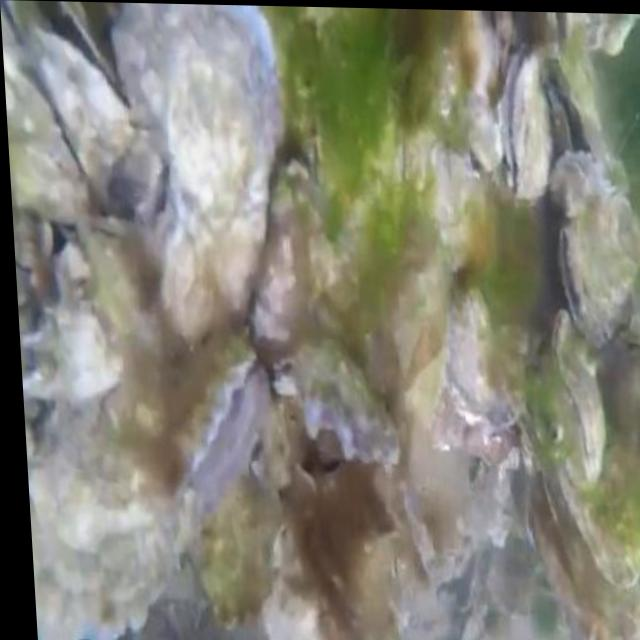Oyster-Closed: (556, 187, 640, 343), (552, 307, 608, 475), (500, 40, 553, 201)
Oyster-Indeterminate: (28, 433, 180, 640), (1, 11, 91, 227), (194, 462, 274, 629), (546, 451, 640, 591), (110, 3, 175, 167), (449, 289, 529, 417), (552, 153, 626, 208)
Oyster-Open: (162, 4, 282, 330), (1, 0, 161, 228), (166, 348, 269, 531), (276, 346, 400, 469), (543, 45, 607, 154)
